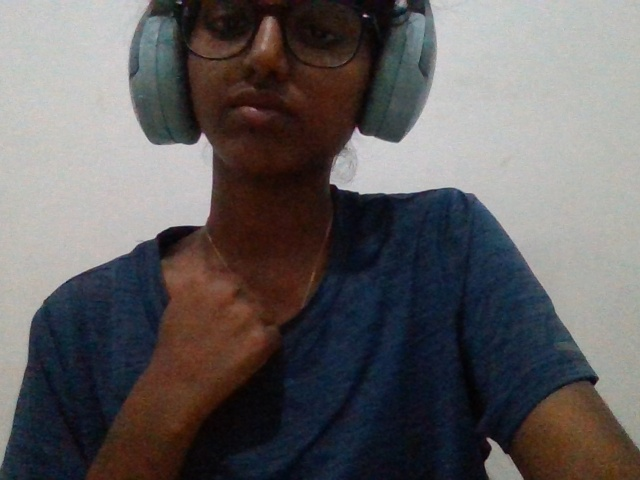Sorry: (129, 255, 291, 462)
